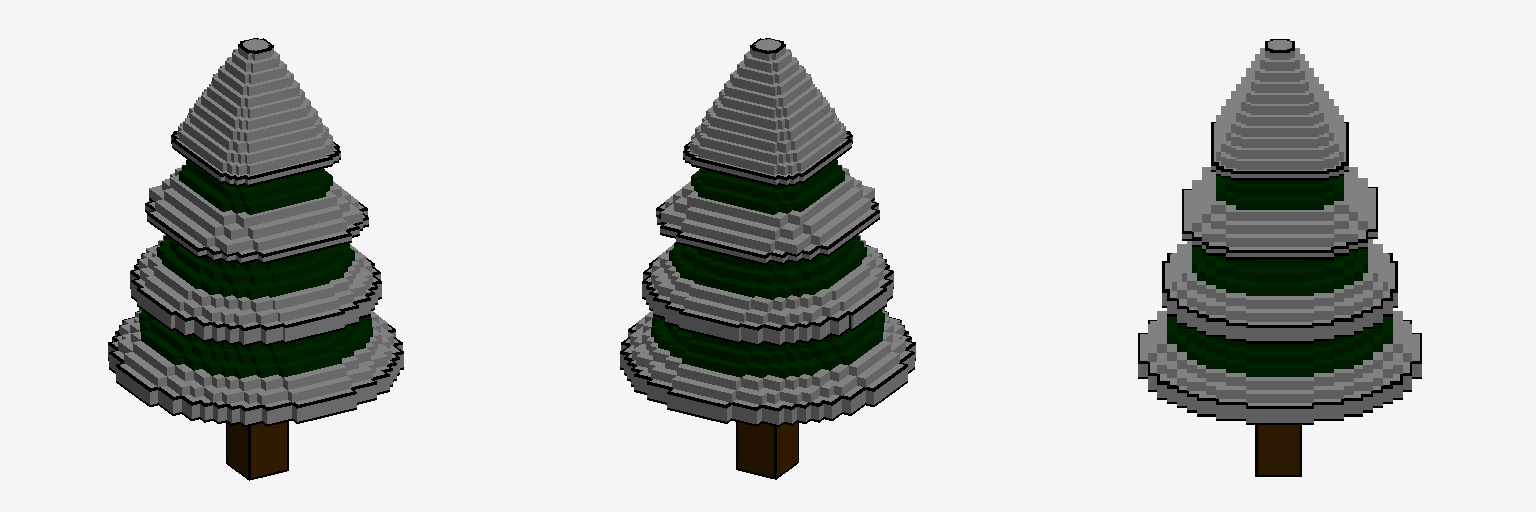
3 views of the same model, side by side, from view 1: azimuth 30°, elevation 25°; view 2: azimuth 150°, elevation 25°; view 3: azimuth 270°, elevation 25° (orthographic).
Parts seen in each view (by area): view 1: object 1; view 2: object 1; view 3: object 1.
Part boxes in pixels (left/top/right/bottom): object 1: left=108, top=38, right=403, bottom=480; object 1: left=620, top=38, right=915, bottom=479; object 1: left=1138, top=39, right=1421, bottom=476.
Size of the model in its own units: 11.6 by 19 by 11.6.
1 materials, 1 textured.